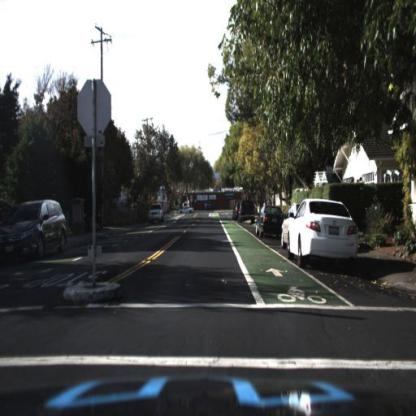car: (290, 198, 360, 275), (2, 199, 68, 265), (275, 201, 307, 258), (254, 208, 285, 241), (241, 196, 258, 221), (147, 202, 165, 225), (176, 202, 196, 218)
